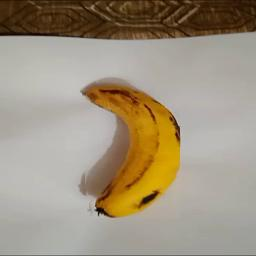Banana Semifresh: (80, 80, 181, 218)
